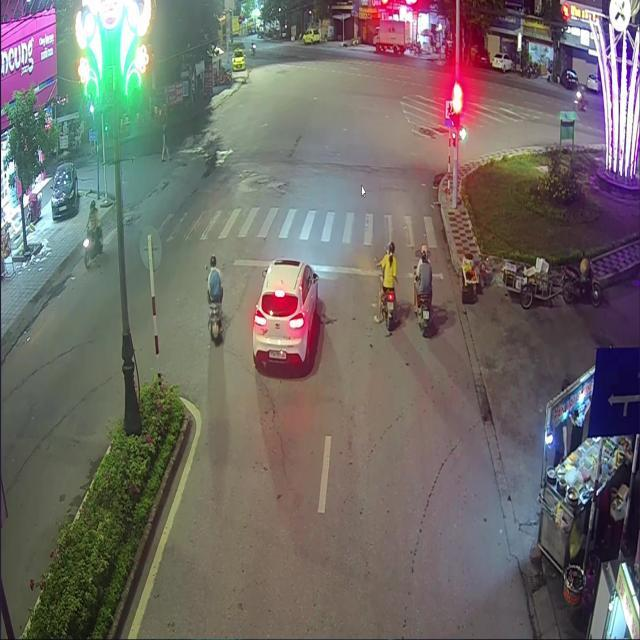car: (251, 257, 318, 374)
motobike: (378, 287, 393, 333), (416, 292, 429, 335), (207, 303, 221, 341)
red_light: (452, 97, 459, 127)
stop_line: (231, 258, 442, 280)
